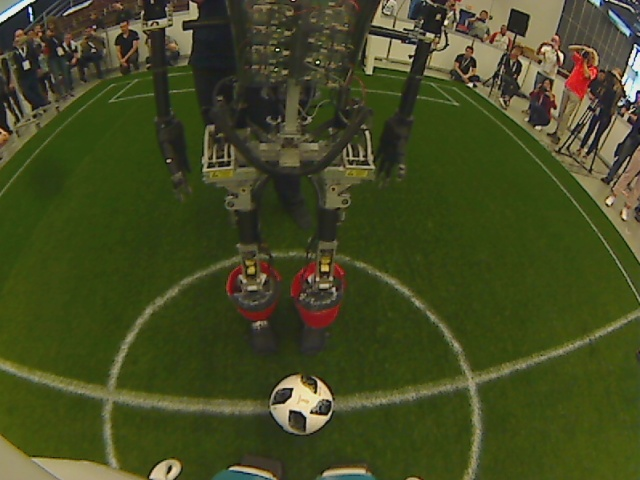ball: (267, 369, 338, 438)
